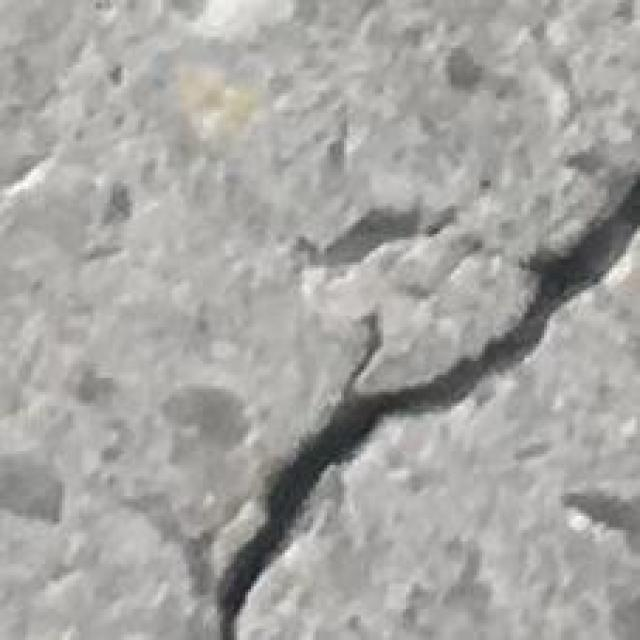Crack: (206, 152, 640, 640)
